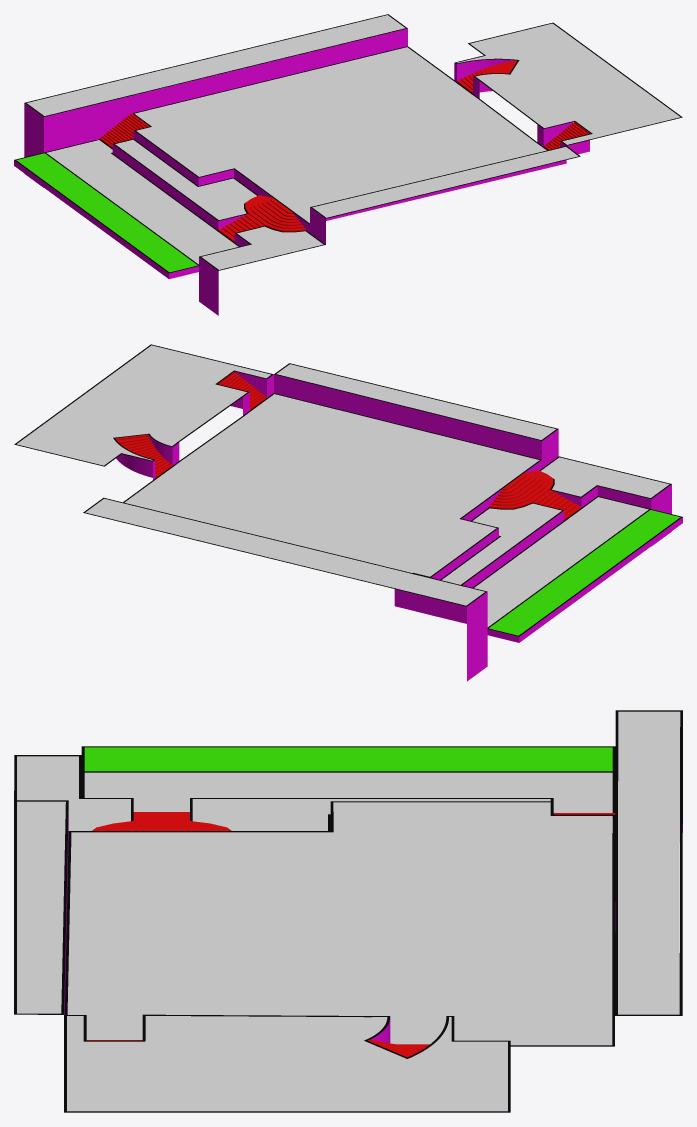
File: Platue.fbx
The picture shows the model from 3 angles, top to bottom: view 1: azimuth 30°, elevation 25°; view 2: azimuth 150°, elevation 25°; view 3: azimuth 270°, elevation 25°; orthographic projection. The views are drawn at different scales.
Parts seen in each view (by area): view 1: Platue, Platue.002, Platue.003, Platue.004, Platue.001; view 2: Platue, Platue.002, Platue.003, Platue.004, Platue.001; view 3: Platue, Platue.004, Platue.003, Platue.001.
Part boxes in pixels (x1,y1,x2,y2): Platue: (27, 15, 680, 269); Platue.002: (14, 28, 589, 315); Platue.003: (14, 14, 682, 273); Platue.004: (16, 153, 197, 272); Platue.001: (99, 60, 590, 242); Platue: (17, 345, 668, 626); Platue.002: (116, 371, 682, 681); Platue.003: (14, 344, 682, 636); Platue.004: (489, 510, 680, 635); Platue.001: (115, 371, 581, 519); Platue: (17, 711, 680, 1111); Platue.004: (84, 747, 612, 771); Platue.003: (14, 710, 682, 1112); Platue.001: (86, 812, 615, 1057).
Bounding box in the file's own units: 9000 × 1200 × 5951.
